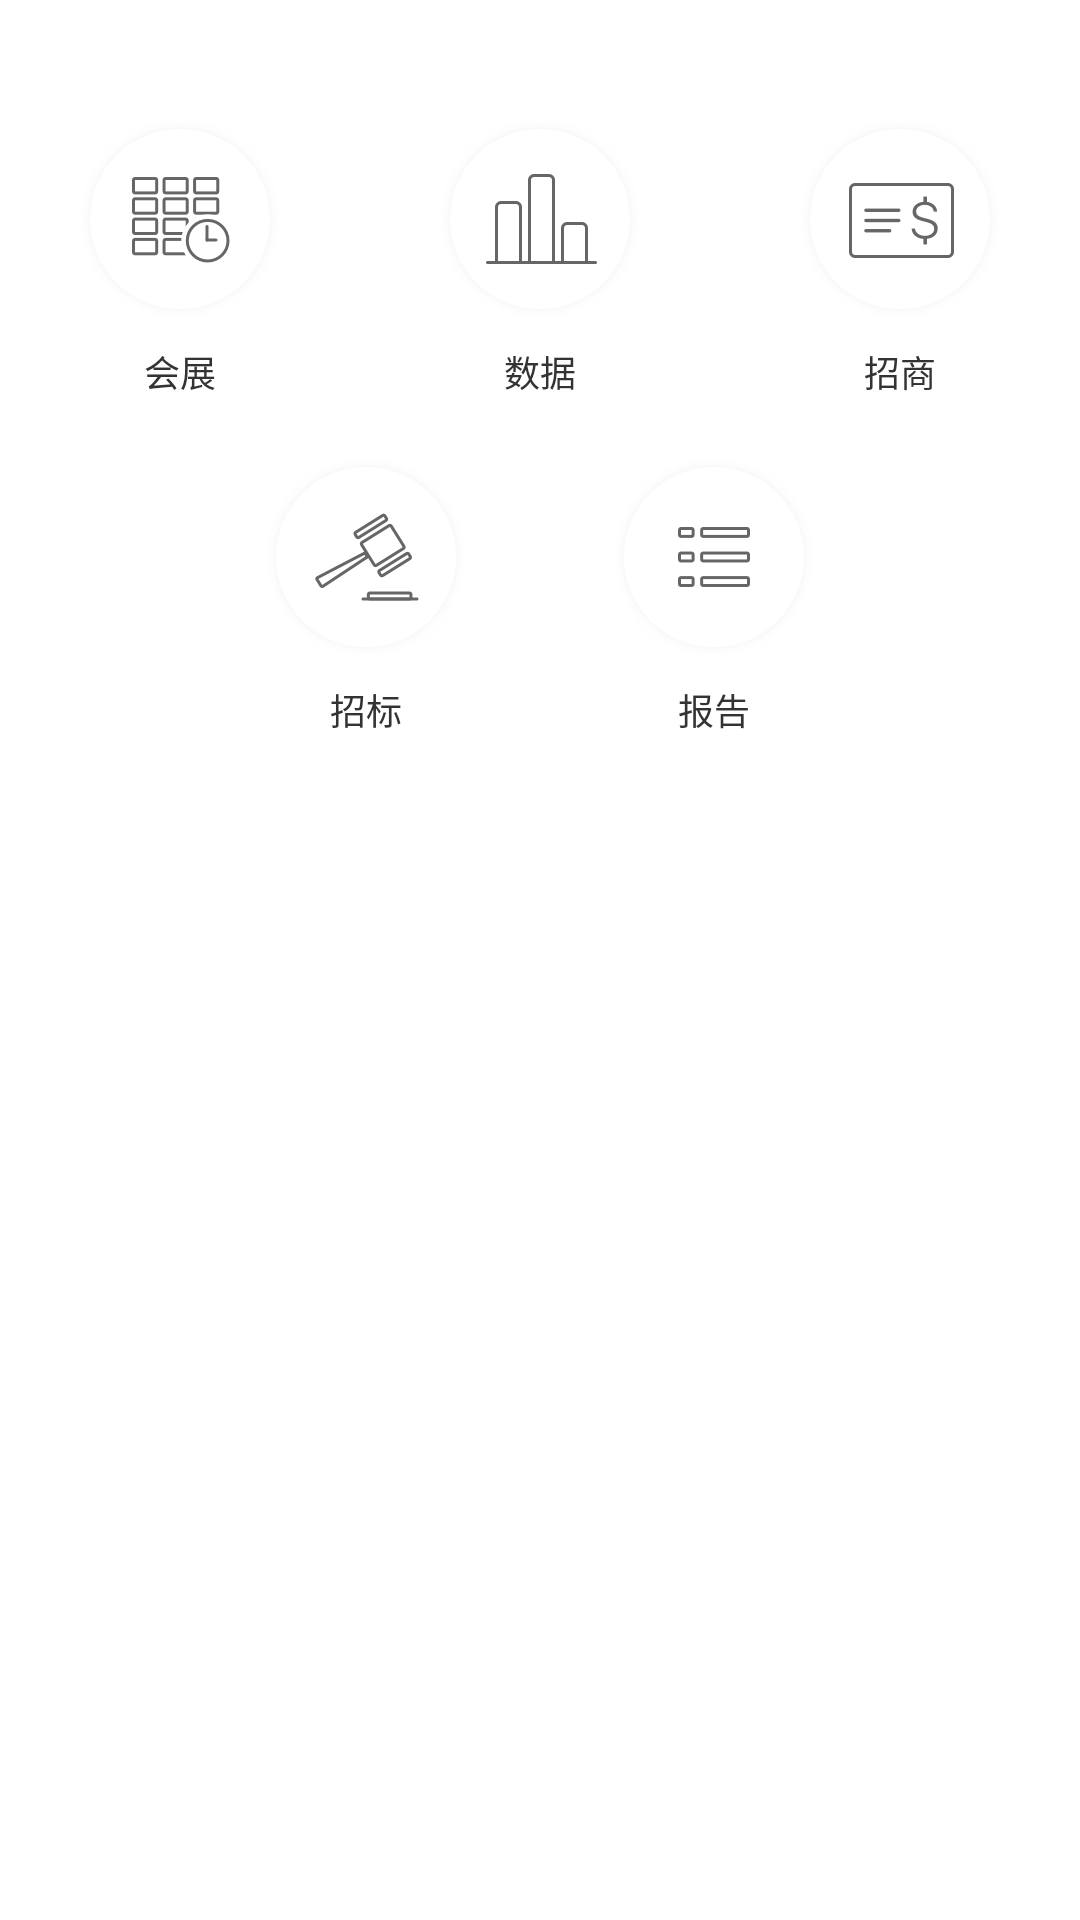

Named icons in this screenshot (1080px×1920px) and their centers, [x,y]:
search data: [541,219]
search huizhan: [181,220]
search report: [714,557]
search zhaobiao: [367,557]
search zhaoshang: [901,220]
